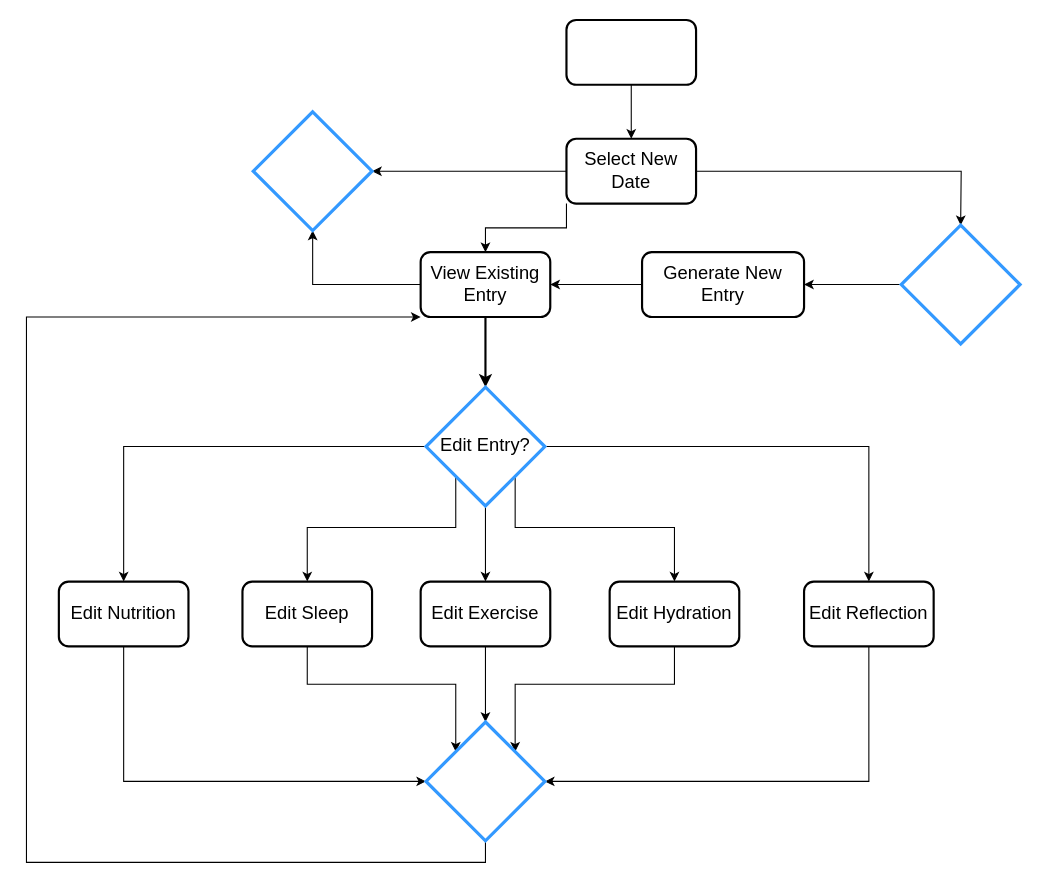
Image size: 1040x890. Some labels were removed from this diagram. Each missing label, with the centre of its shape:
Add New Entry?: the point at 960,284
Delete Entry?: the point at 312,171
Update Entry?: the point at 485,781
View Profile: the point at 631,51
